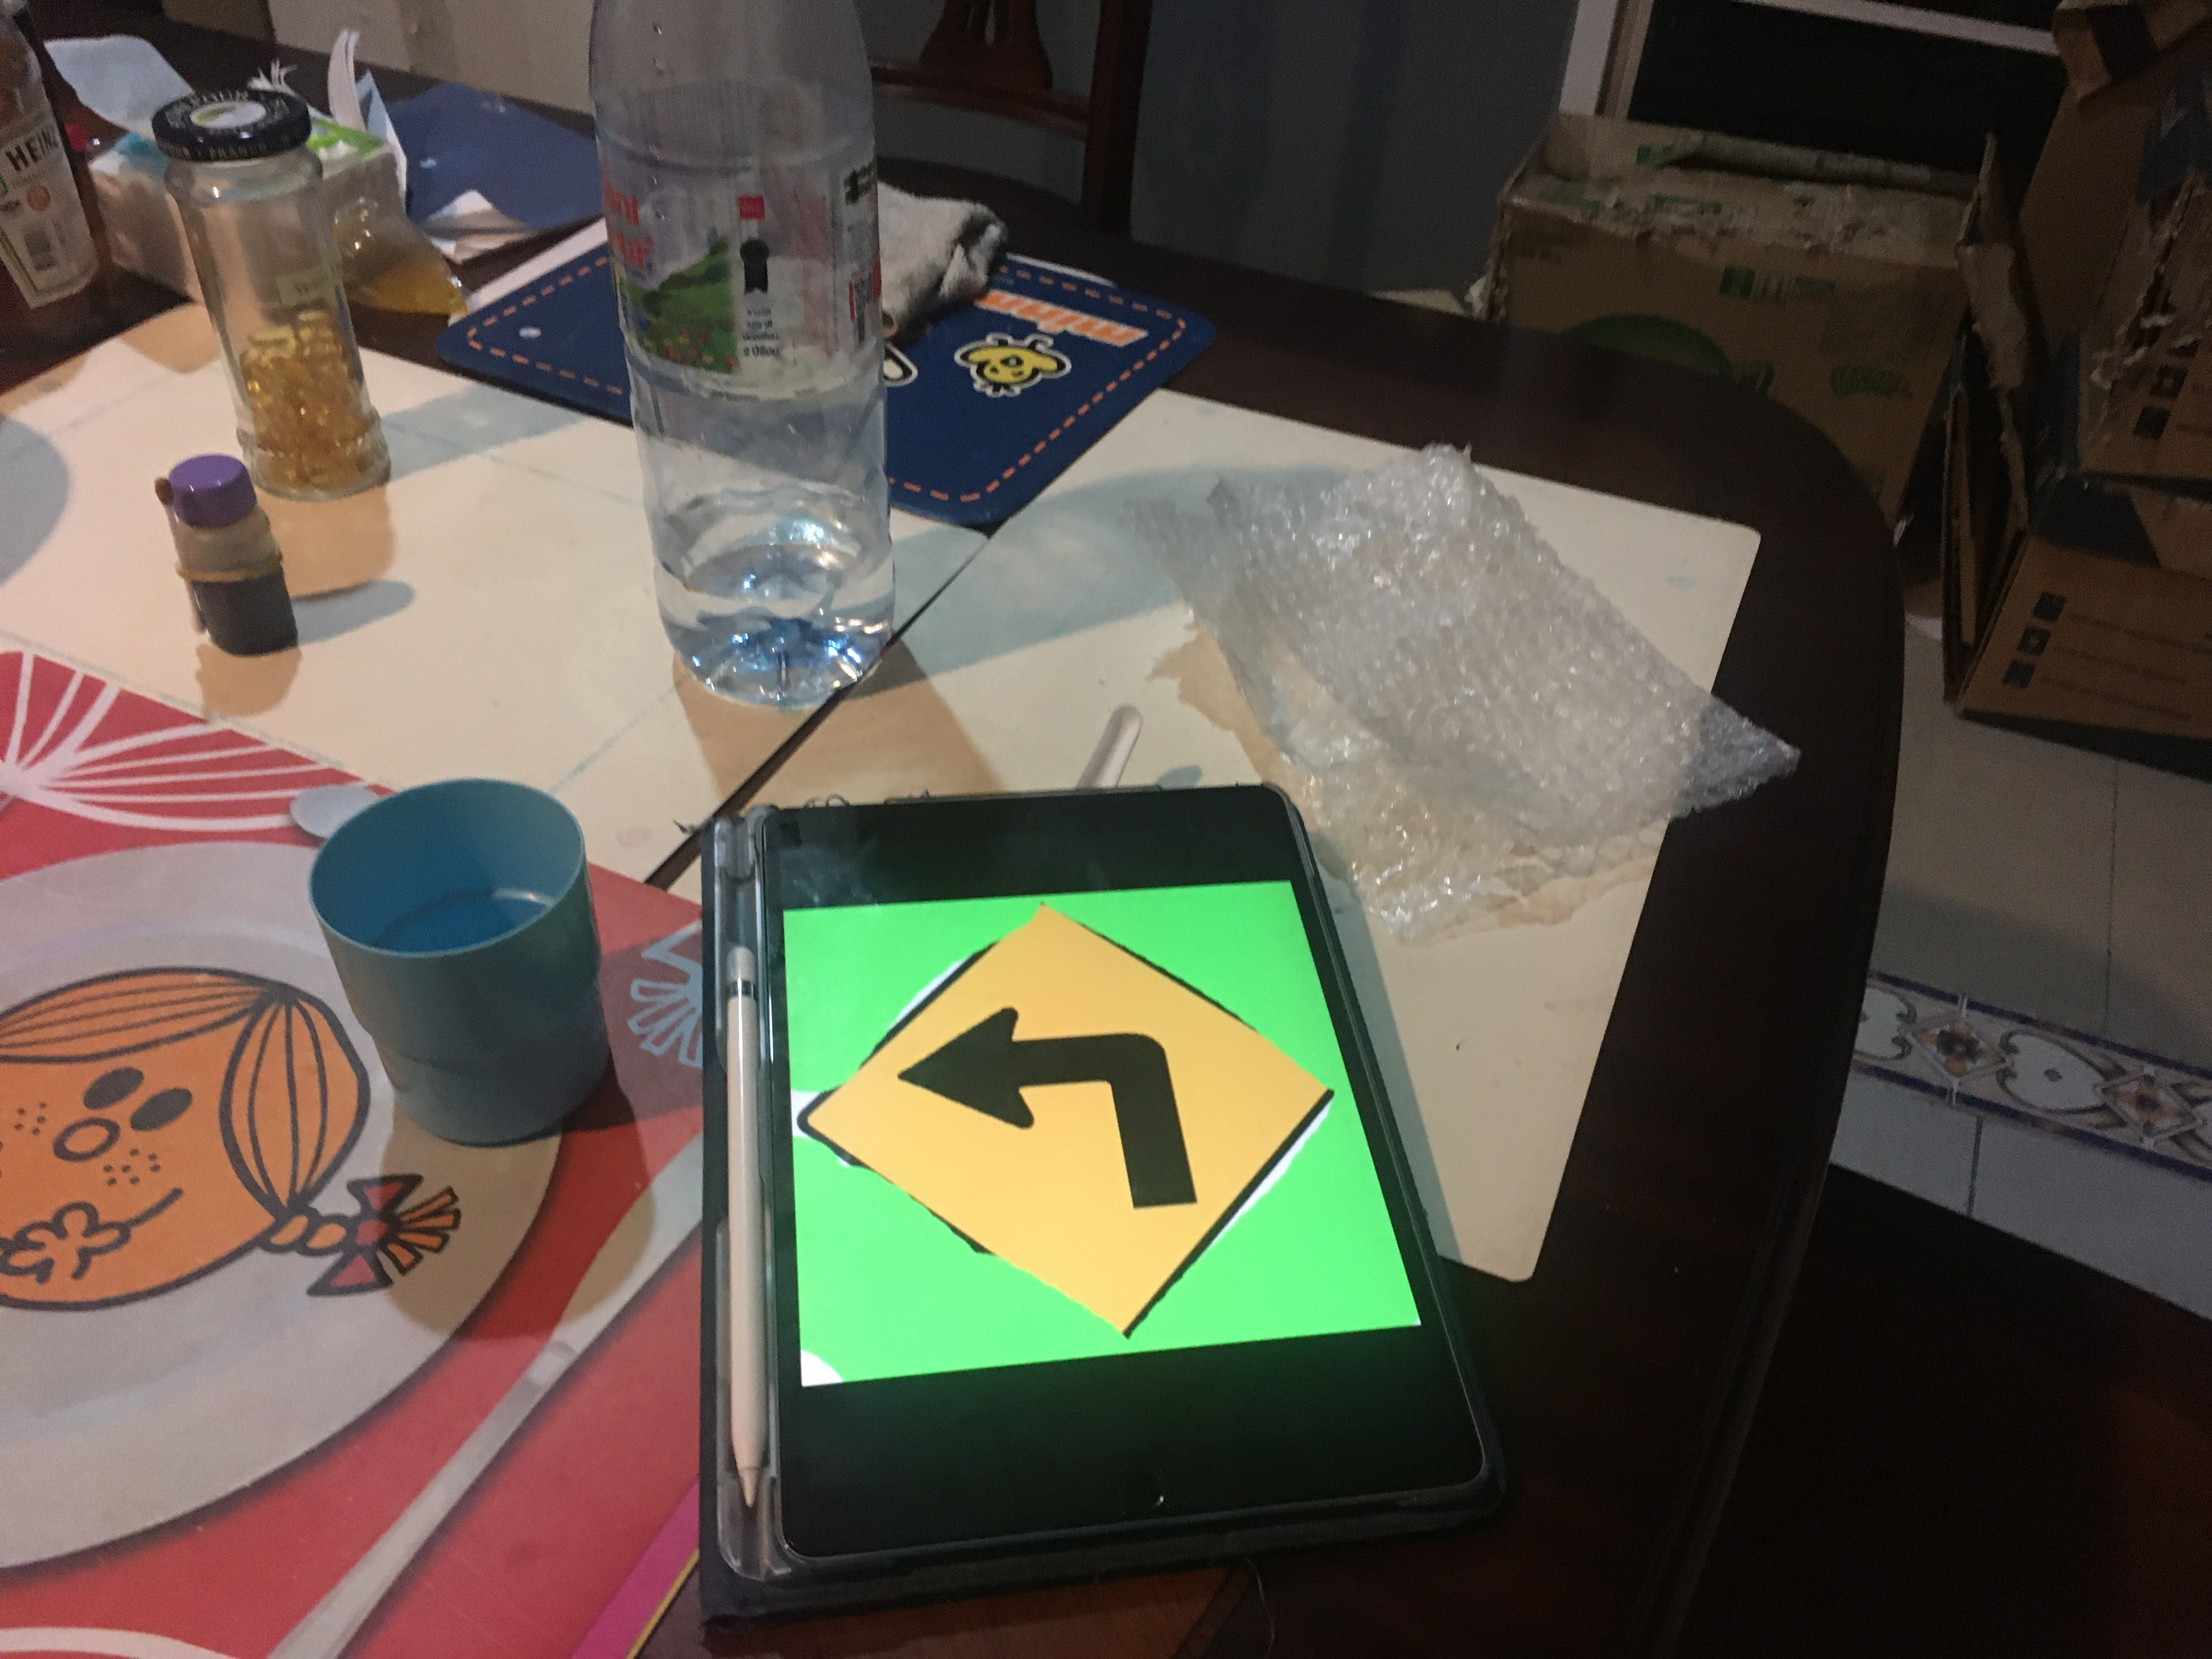left: (777, 888, 1346, 1349)
